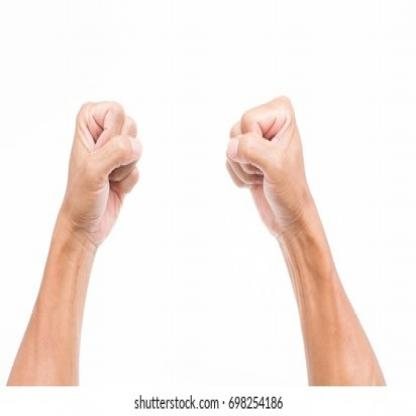fist: (224, 94, 308, 230), (65, 99, 142, 237)
